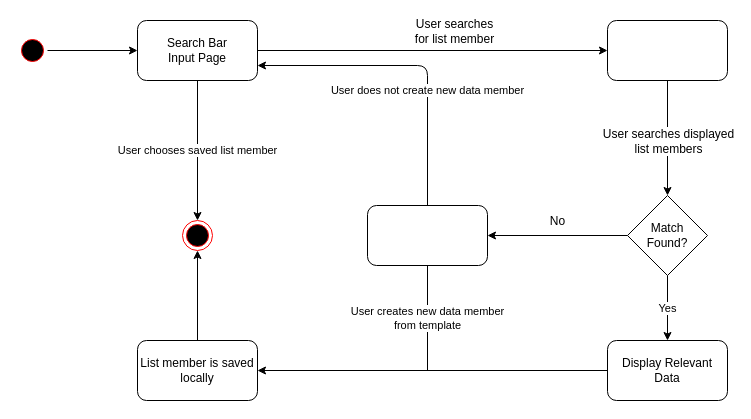
The diagram is 751 pixels wide and 419 high, and some of its shapes have lost their labels. The box of each missing label's shape, as (x1, y1, x2, y2) in pixels:
Ask User to Create New Input: (366, 204, 488, 266)
Display List of Matches: (606, 20, 728, 80)
